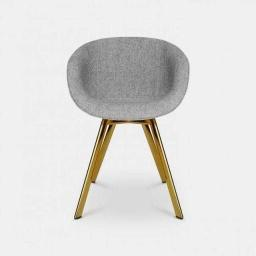Chair: (68, 37, 189, 222)
